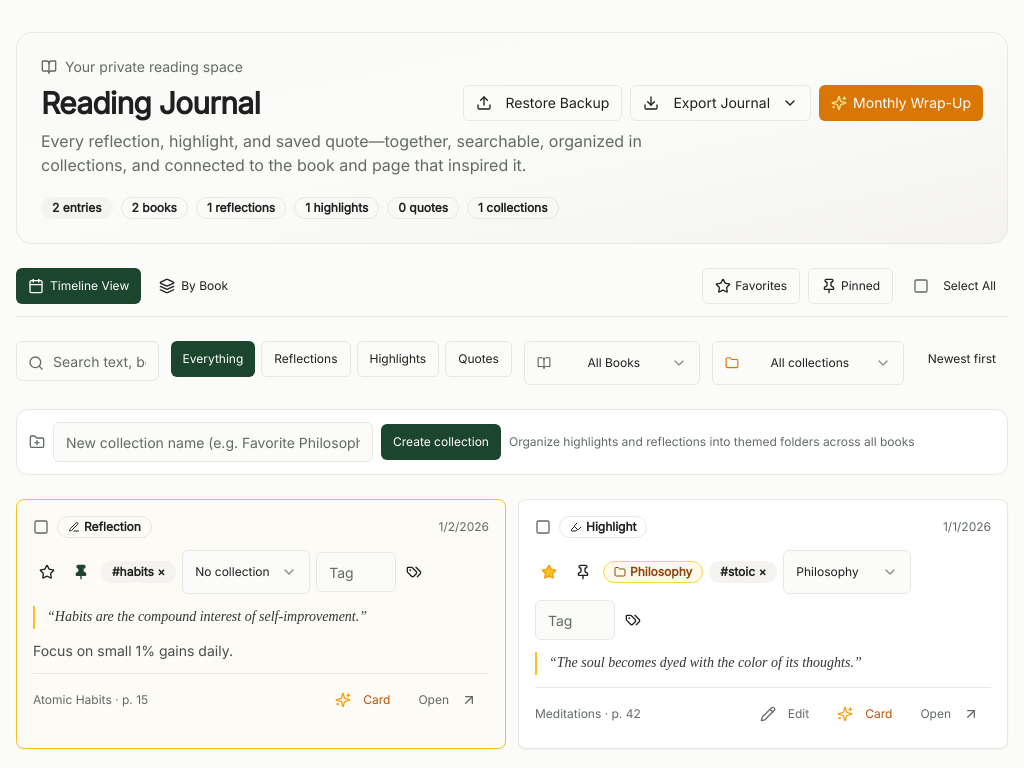
it: ReadingJournalPage › supports selecting entries and reveals sticky bulk action toolbar
The width and height of the screenshot is (1024, 768).
Click the button named "Select entry hl-1".
click(543, 527)  # box [535,519,551,535]
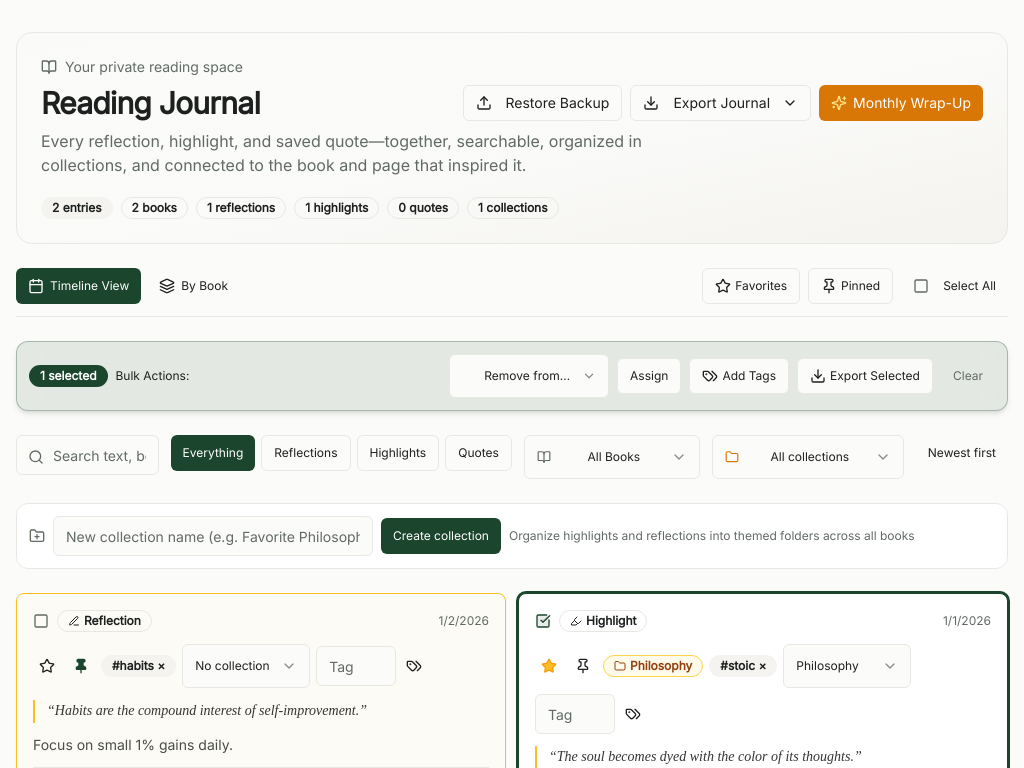
expect the text "1 selected" is shown: met, box [29,365,108,387]
expect the button "Add Tags" is shown: met, box [689,358,789,394]
expect the button "Export Selected" is shown: met, box [797,358,933,394]
Click the button "Clear".
click(968, 376)  # box [941,358,995,394]
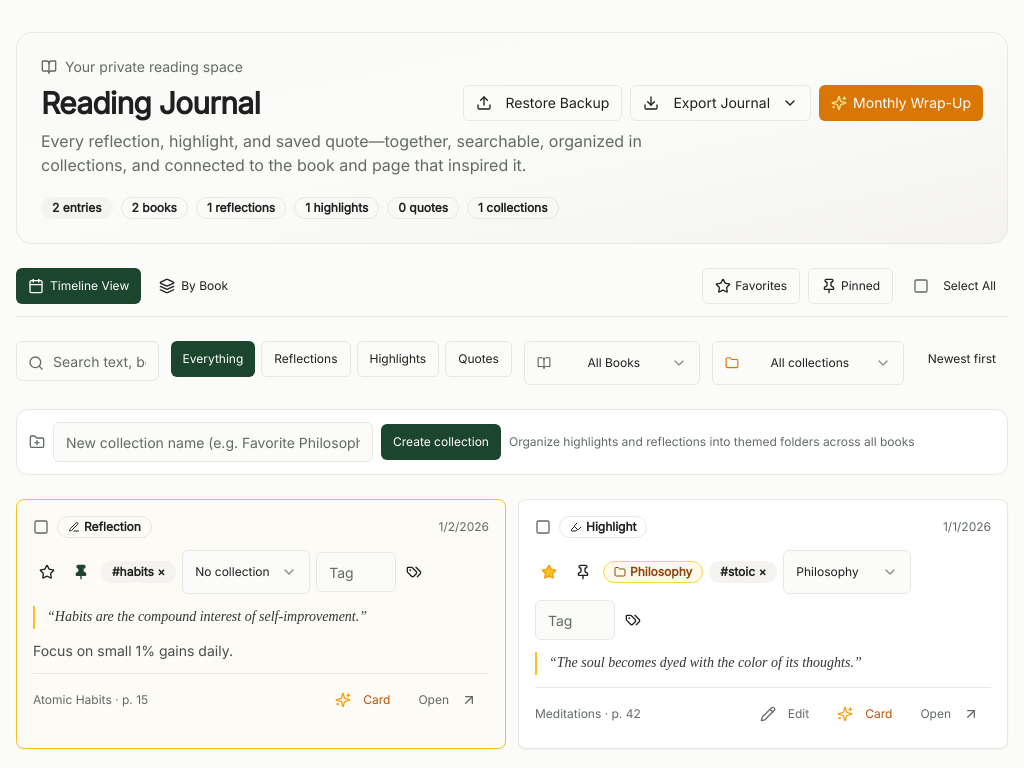
expect the text "1 selected" is gone: met
